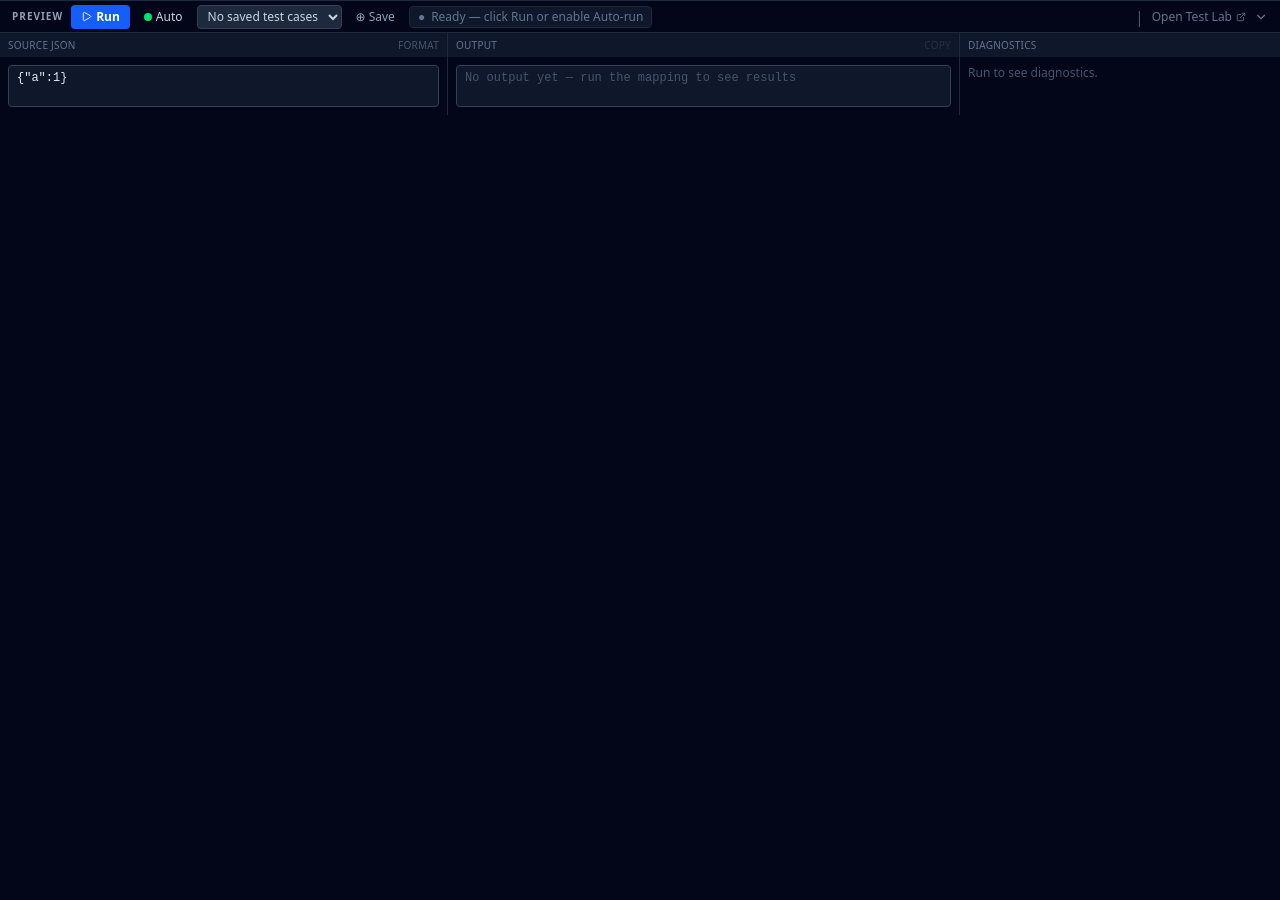
Test: InlinePreviewStrip › clicking Save button opens modal
Click the button with test id "strip-save-testcase-button": (375, 16) x1=350 y1=6 x2=401 y2=26
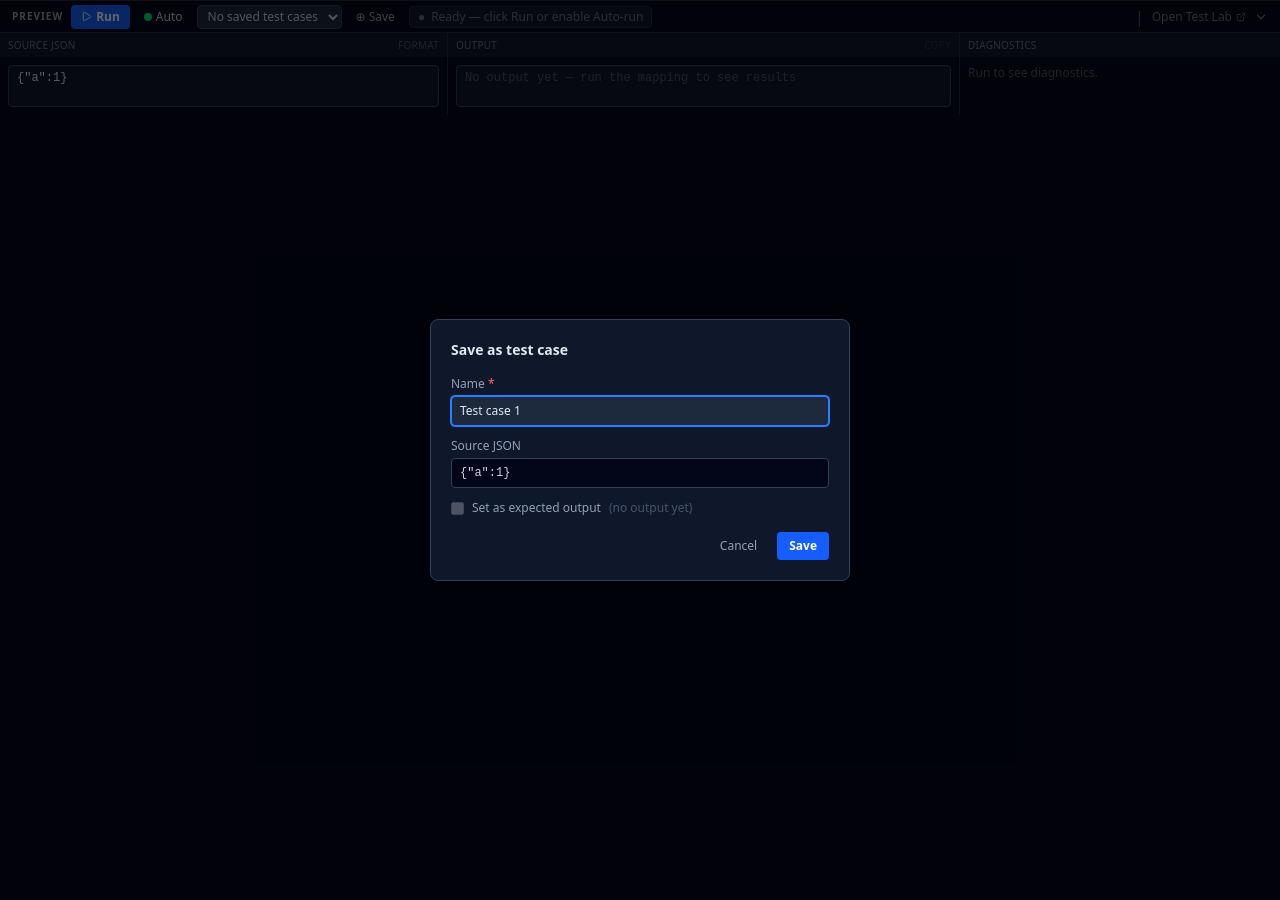
Expected: the element with test id "save-testcase-modal" is shown
